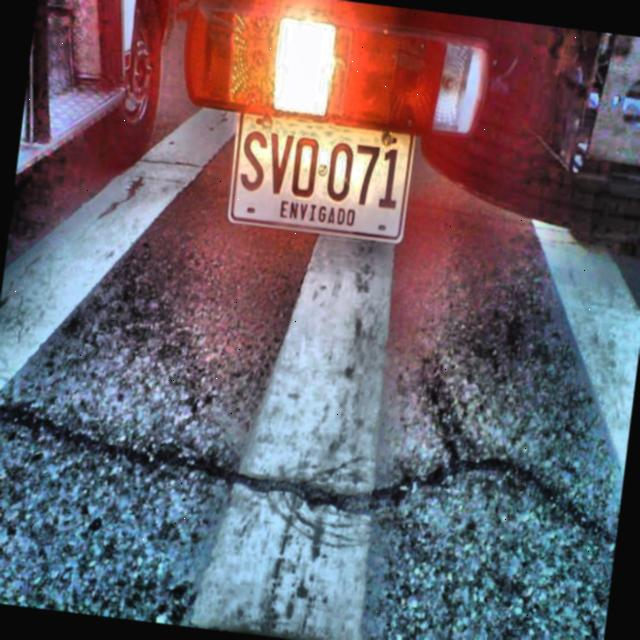0: (323, 139, 356, 203)
1: (373, 146, 402, 209)
7: (349, 142, 384, 209)
O: (287, 135, 323, 200)
S: (237, 128, 269, 196)
V: (266, 131, 296, 195)
